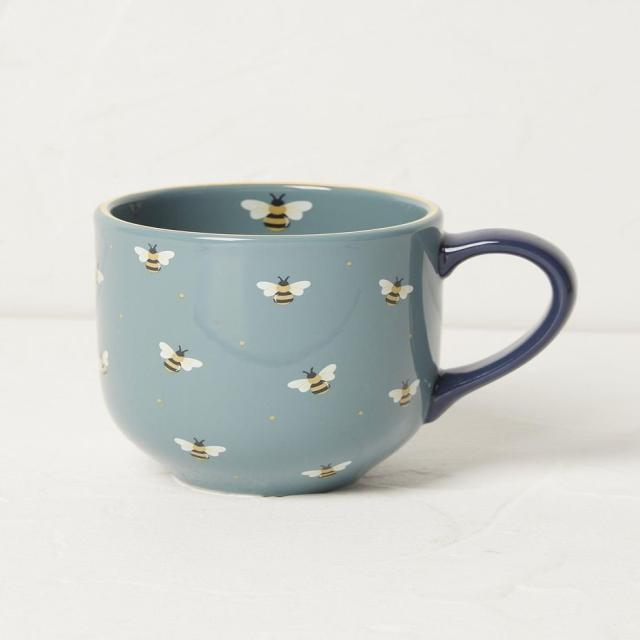glass cup: (94, 181, 578, 496)
